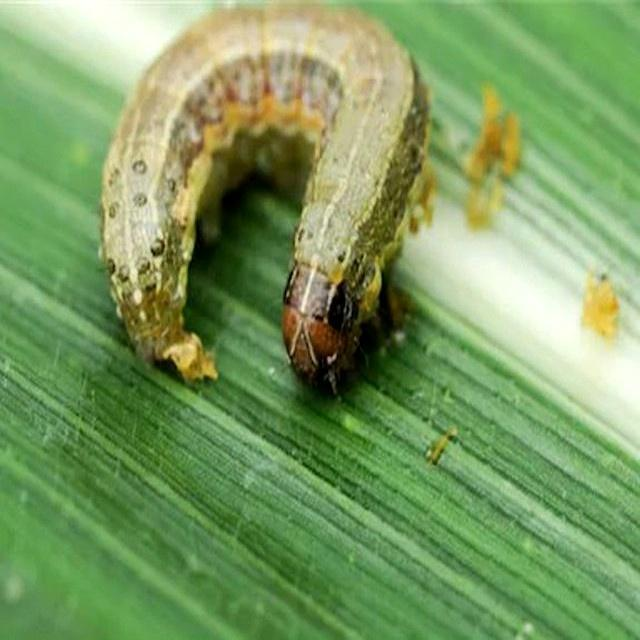worm: (98, 2, 437, 399)
